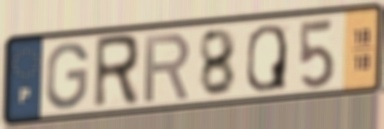5: (296, 15, 338, 91)
8: (197, 26, 239, 98)
G: (43, 39, 91, 112)
Q: (244, 22, 289, 95)
R: (90, 31, 141, 113), (142, 30, 194, 105)
